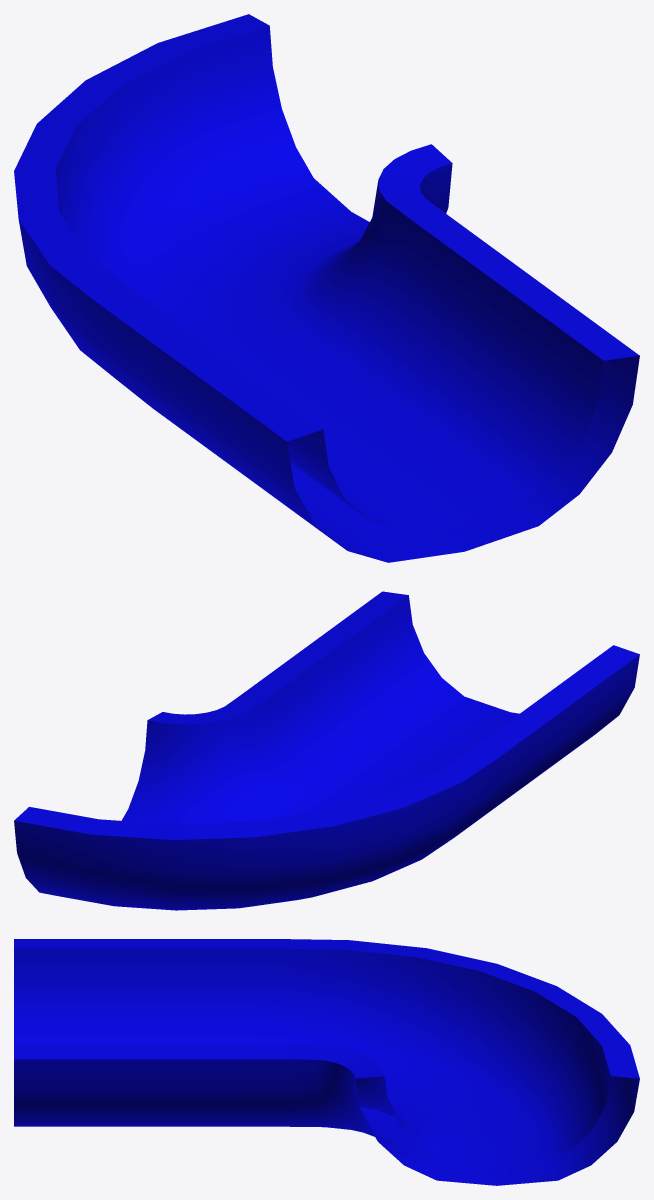
Rendered from Extruded_Connector_Pipe_Elbow_Vein.fbx.
3 renders of one model, top to bottom at view 1: azimuth 30°, elevation 25°; view 2: azimuth 150°, elevation 25°; view 3: azimuth 270°, elevation 25°, orthographic. The views are drawn at different scales.
Visible parts, largest first — view 1: Extruded_Connector_Pipe_Elbow:pPipe17; view 2: Extruded_Connector_Pipe_Elbow:pPipe17; view 3: Extruded_Connector_Pipe_Elbow:pPipe17.
Part boxes in pixels (x1,y1,x2,y2): Extruded_Connector_Pipe_Elbow:pPipe17: (14,14,639,562); Extruded_Connector_Pipe_Elbow:pPipe17: (14,591,639,910); Extruded_Connector_Pipe_Elbow:pPipe17: (14,939,639,1185).
Bounding box in the file's own units: 2.8 × 1.02 × 5.3.
